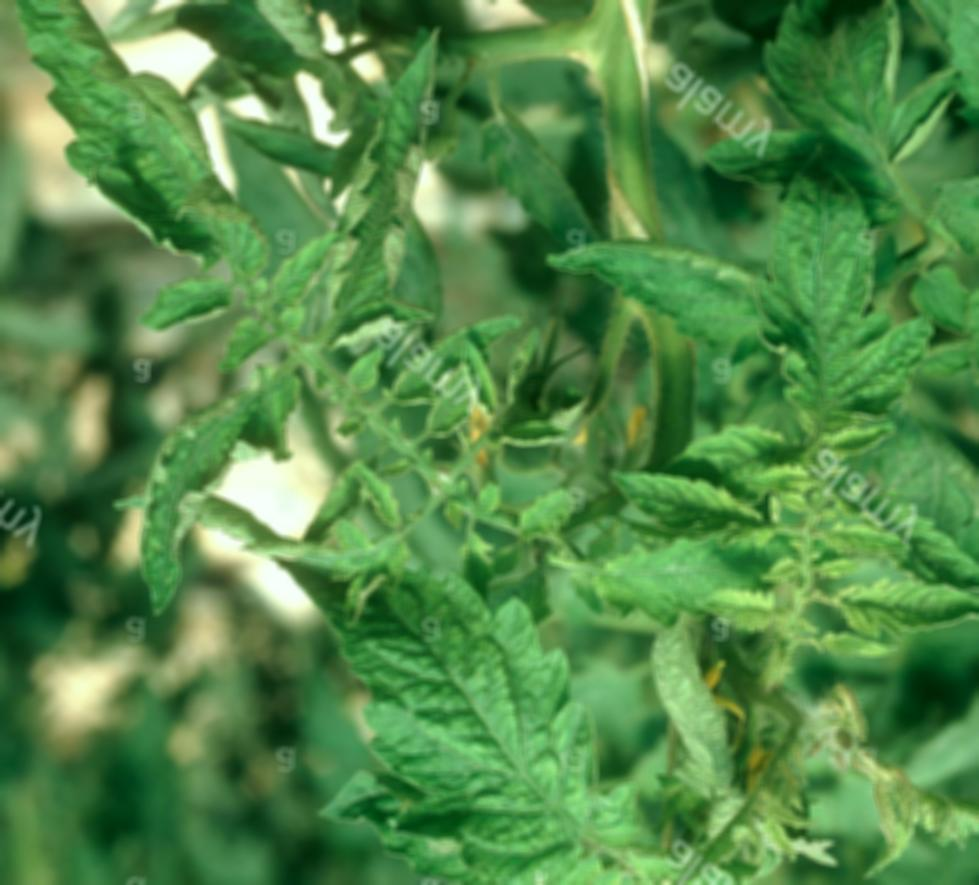Tomato leaf yellow virus: (314, 542, 683, 885), (23, 0, 285, 309), (762, 144, 935, 437), (824, 564, 979, 656)
